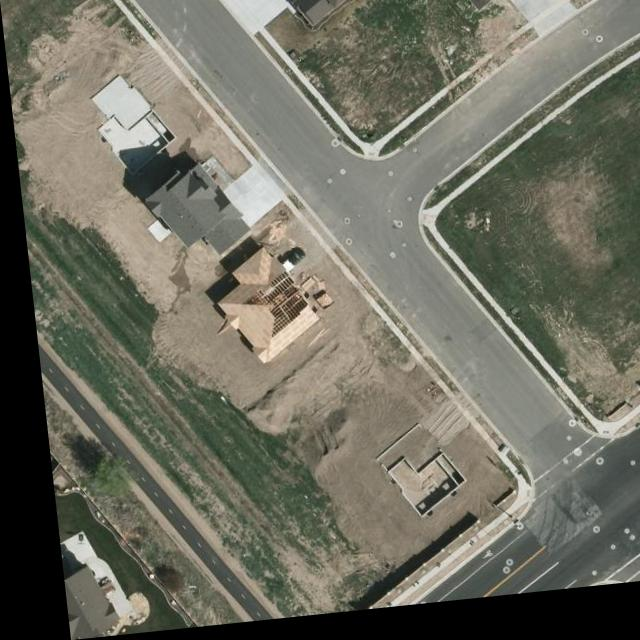vehicle: (268, 253, 303, 282)
